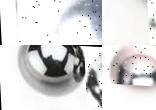ironball: (13, 0, 102, 45), (11, 45, 87, 96), (104, 45, 155, 86), (84, 45, 102, 109)
